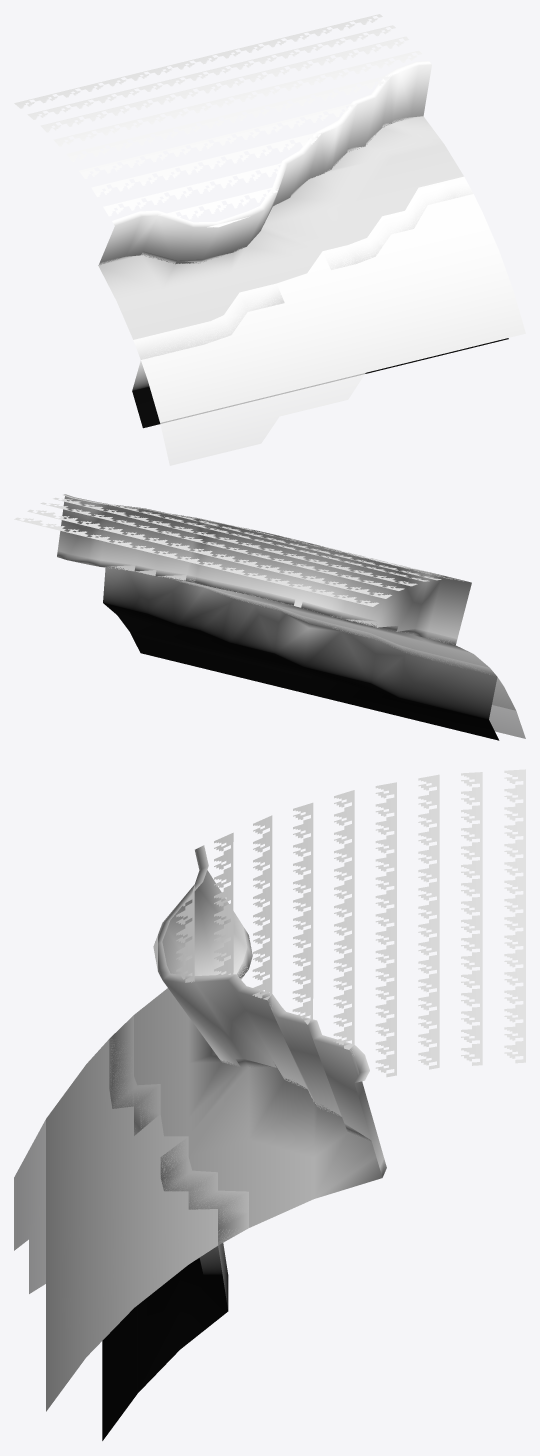
The model's file is grd_Mse_s_1.dae.
The picture shows the model from 3 angles, top to bottom: view 1: azimuth 30°, elevation 25°; view 2: azimuth 150°, elevation 25°; view 3: azimuth 270°, elevation 25°; orthographic projection. The views are drawn at different scales.
Parts seen in each view (by area): view 1: grd_Mse_s_1; view 2: grd_Mse_s_1; view 3: grd_Mse_s_1.
Boxes of the visible parts, x1,y1,x2,y2 form: grd_Mse_s_1: (14, 14, 525, 465); grd_Mse_s_1: (14, 494, 525, 740); grd_Mse_s_1: (14, 769, 525, 1440).
Size of the model in its own units: 512 by 332 by 378.
Materials: 6 (1 with a texture image).
